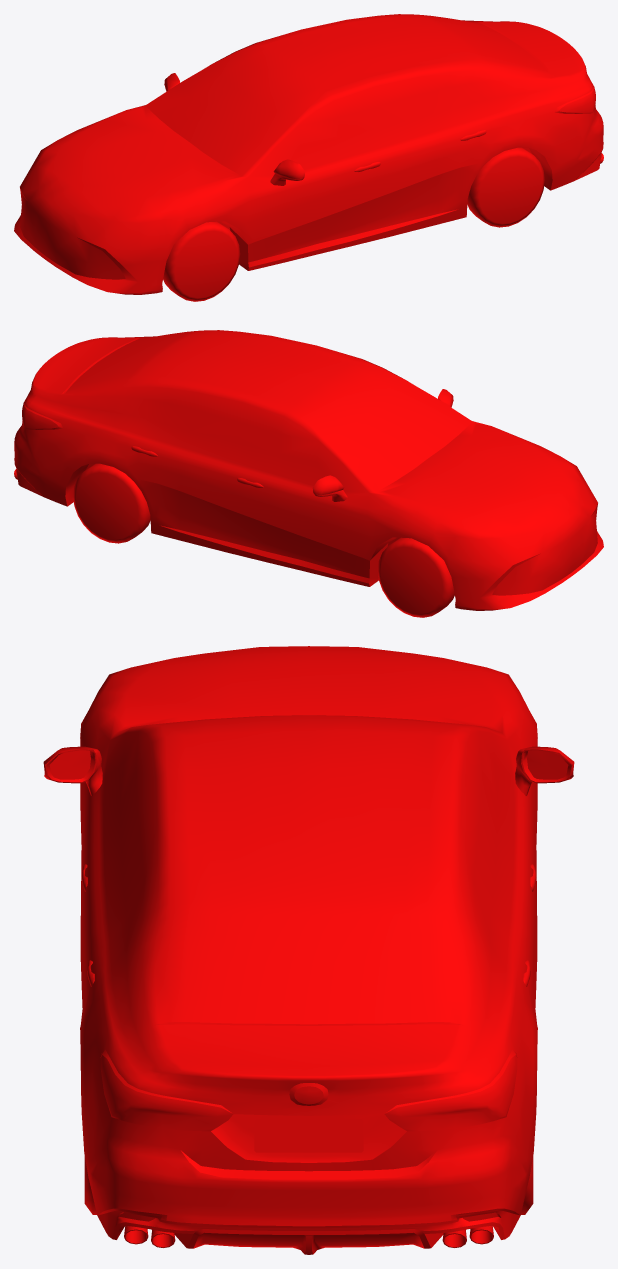
The model's file is caimeirei.fbx.
3 views of the same model, one above another, from view 1: azimuth 30°, elevation 25°; view 2: azimuth 150°, elevation 25°; view 3: azimuth 270°, elevation 25° (orthographic). The views are drawn at different scales.
Parts seen in each view (by area): view 1: wq_01_shoujiduan_jiaofu_01_polySurface15046; view 2: wq_01_shoujiduan_jiaofu_01_polySurface15046; view 3: wq_01_shoujiduan_jiaofu_01_polySurface15046.
Part boxes in pixels (x1,y1,x2,y2): wq_01_shoujiduan_jiaofu_01_polySurface15046: (14,14,603,301); wq_01_shoujiduan_jiaofu_01_polySurface15046: (14,330,603,617); wq_01_shoujiduan_jiaofu_01_polySurface15046: (43,646,574,1254).
Size of the model in its own units: 4.91 by 1.45 by 2.14.
